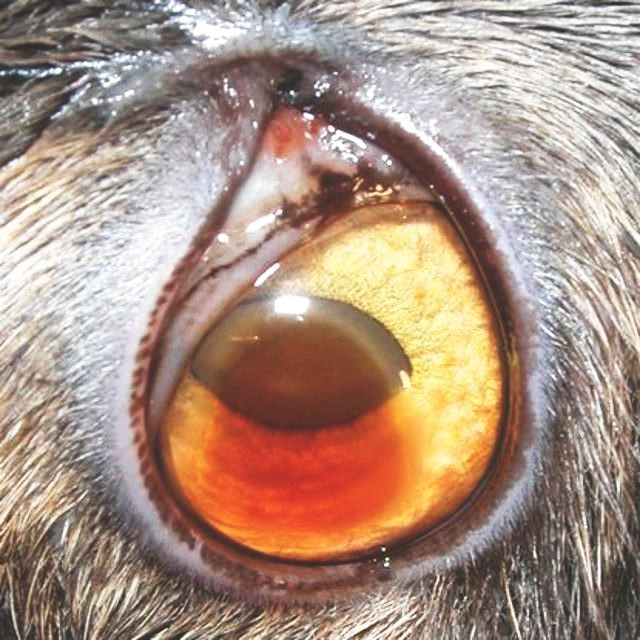eye_infection: (135, 90, 530, 570)
